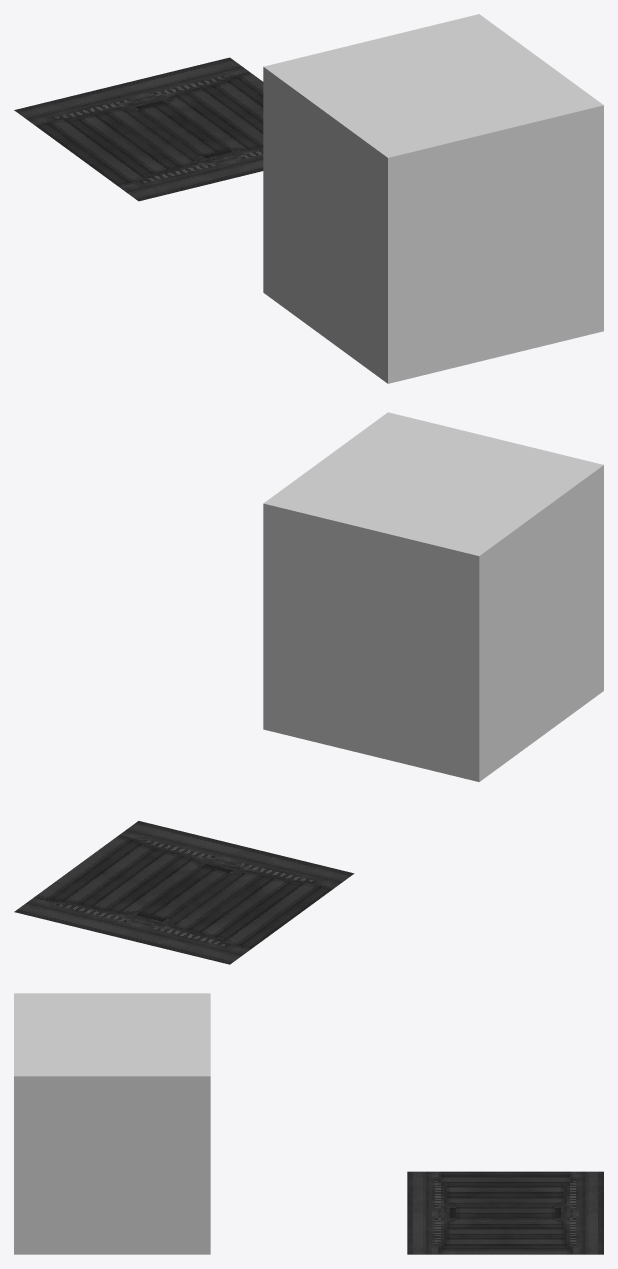
File: grid map tiles.glb
The picture shows the model from 3 angles, top to bottom: view 1: azimuth 30°, elevation 25°; view 2: azimuth 150°, elevation 25°; view 3: azimuth 270°, elevation 25°; orthographic projection. The views are drawn at different scales.
Parts seen in each view (by area): view 1: Cube, floor; view 2: Cube, floor; view 3: Cube, floor.
Boxes of the visible parts, x1,y1,x2,y2 form: Cube: [263, 14, 603, 383]; floor: [14, 57, 263, 201]; Cube: [263, 412, 603, 781]; floor: [14, 821, 354, 964]; Cube: [14, 993, 210, 1254]; floor: [407, 1171, 603, 1254].
Bounding box in the file's own units: 1 × 1 × 3.
1 material, 1 textured.
